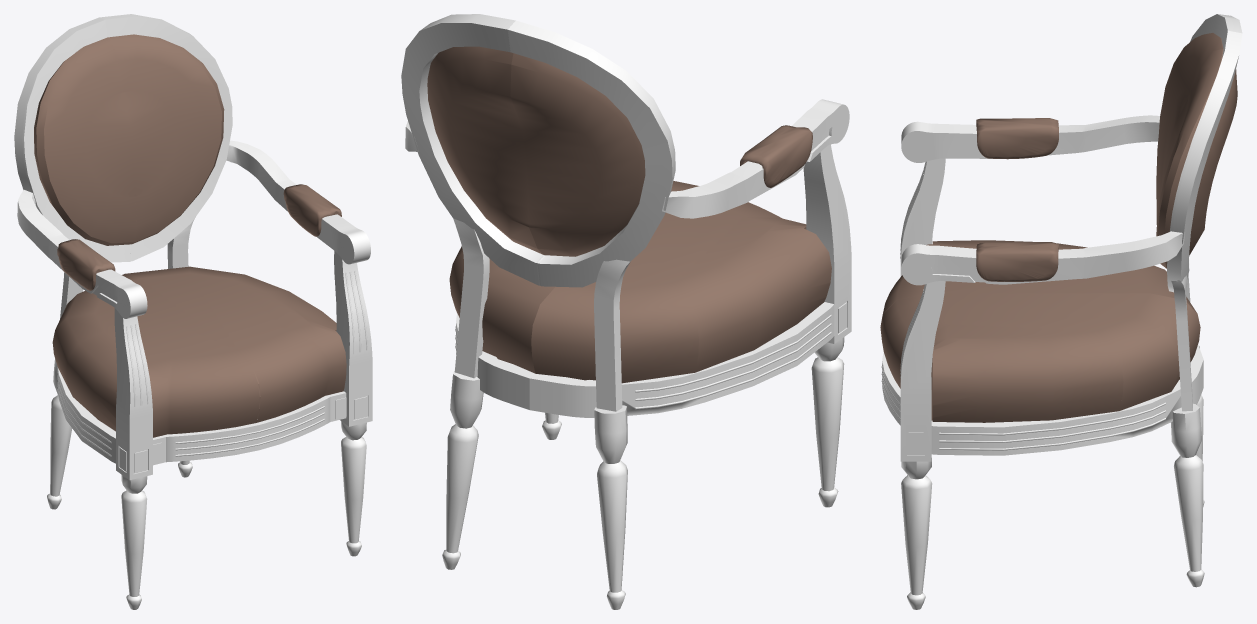
3 views of the same model, side by side, from view 1: azimuth 30°, elevation 25°; view 2: azimuth 150°, elevation 25°; view 3: azimuth 270°, elevation 25° (orthographic). The views are drawn at different scales.
Parts seen in each view (by area): view 1: Group_026, Group_019, Group_008, Group_001, Group_022, Group_029, Group_024, Group_004, Group_011, Group_017, Group_035, Group_006 (+6 smaller); view 2: Group_026, Group_019, Group_001, Group_022, Group_024, Group_004, Group_008, Group_029, Group_035, Group_031, Group_013, Group_033 (+4 smaller); view 3: Group_008, Group_006, Group_017, Group_035, Group_001, Group_011, Group_026, Group_004, Group_013, Group_014, Group_019, Group_034 (+4 smaller).
Part boxes in pixels (box(x1,y1,x2,y2)): Group_026: box(52, 274, 259, 437); Group_019: box(34, 37, 136, 245); Group_008: box(125, 266, 346, 422); Group_001: box(108, 34, 224, 243); Group_022: box(14, 17, 131, 262); Group_029: box(114, 308, 152, 480); Group_024: box(57, 367, 259, 465); Group_004: box(99, 14, 232, 261); Group_011: box(334, 250, 372, 426); Group_017: box(226, 140, 370, 264); Group_035: box(17, 190, 147, 318); Group_006: box(257, 391, 346, 449); Group_026: box(531, 202, 831, 383); Group_019: box(510, 53, 645, 256); Group_001: box(427, 46, 543, 254); Group_022: box(507, 20, 675, 287); Group_024: box(529, 302, 834, 417); Group_004: box(401, 14, 543, 285); Group_008: box(449, 181, 698, 373); Group_029: box(803, 144, 851, 343); Group_035: box(662, 99, 849, 218); Group_031: box(594, 405, 627, 609); Group_013: box(442, 369, 483, 569); Group_033: box(594, 259, 630, 411); Group_008: box(880, 293, 1200, 422); Group_006: box(881, 359, 1203, 455); Group_017: box(901, 231, 1185, 285); Group_035: box(901, 115, 1159, 162); Group_001: box(1156, 49, 1237, 268); Group_011: box(900, 281, 945, 461); Group_026: box(880, 240, 1196, 325); Group_004: box(1167, 30, 1242, 292); Group_013: box(1170, 403, 1204, 587); Group_014: box(901, 458, 932, 609); Group_019: box(1156, 33, 1223, 224); Group_034: box(976, 118, 1058, 159).
Size of the model in its own units: 20.72 by 36.77 by 23.23.
